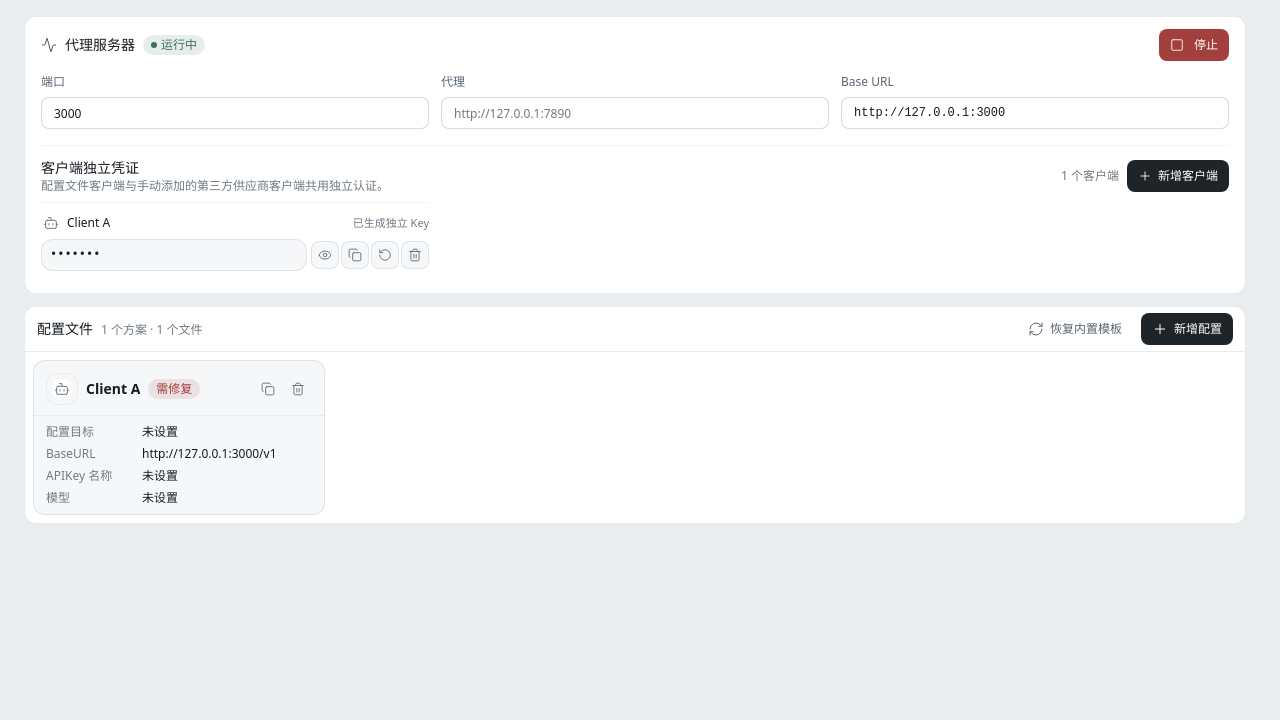
route workbench redesign › previews and commits one profile key rotation before reloading credentials
Click the button named "显示 Client A API Key": (325, 255) [311,241,339,269]
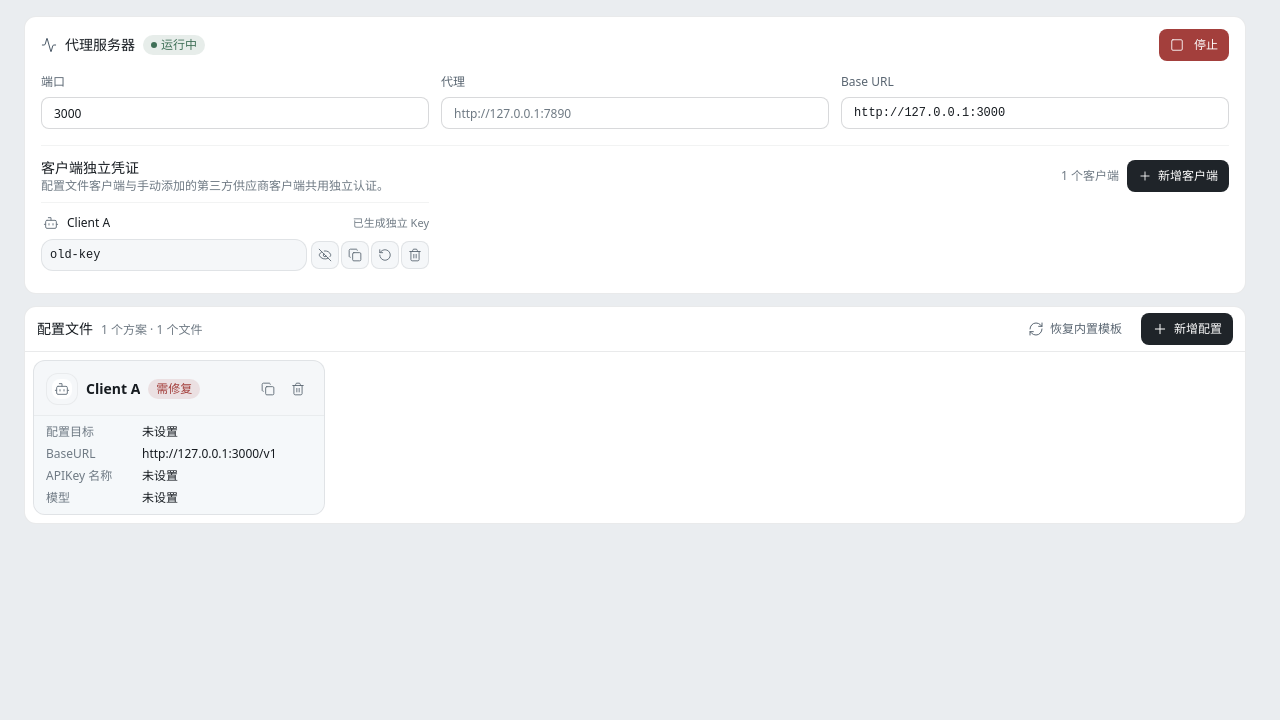
Check: the field showing "old-key" shows its text, box [41,239,307,271]
Click the button named "轮换 Client A API Key": (385, 255) [371,241,399,269]
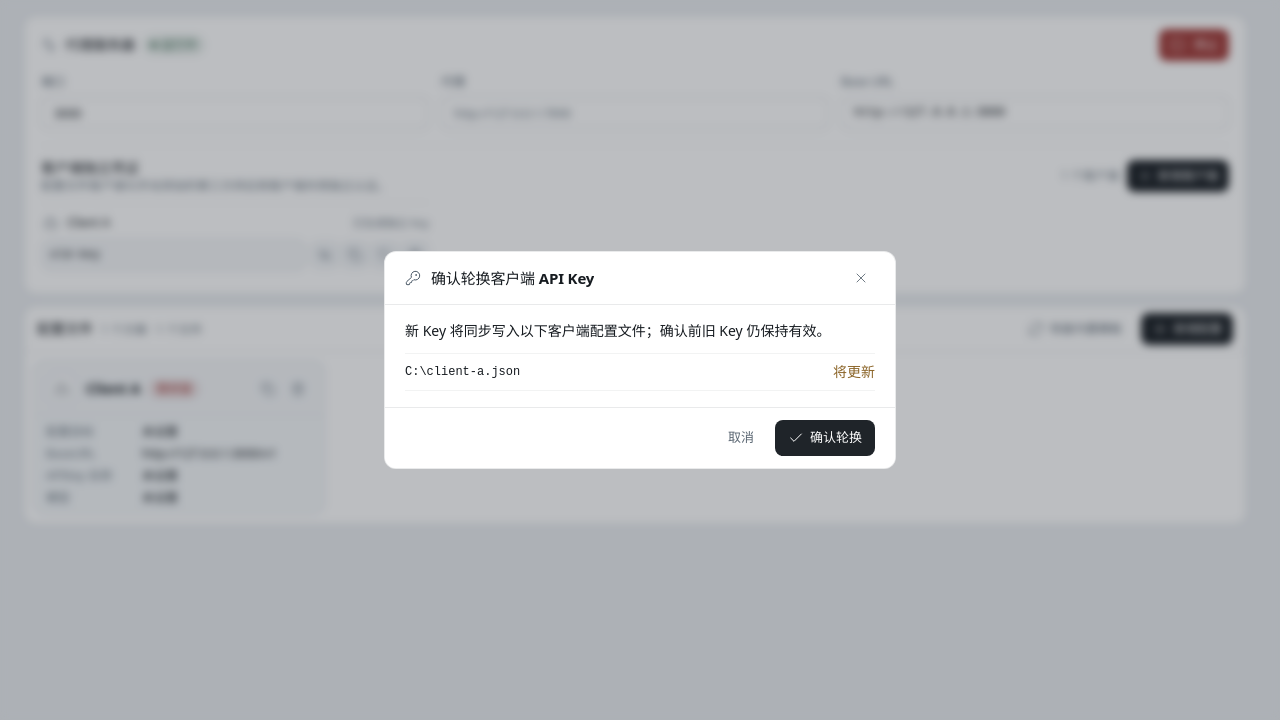
Check: the text "C:\\client-a.json" is shown, box [405,364,520,380]
Click the button "确认轮换": (825, 438) [775,420,875,456]
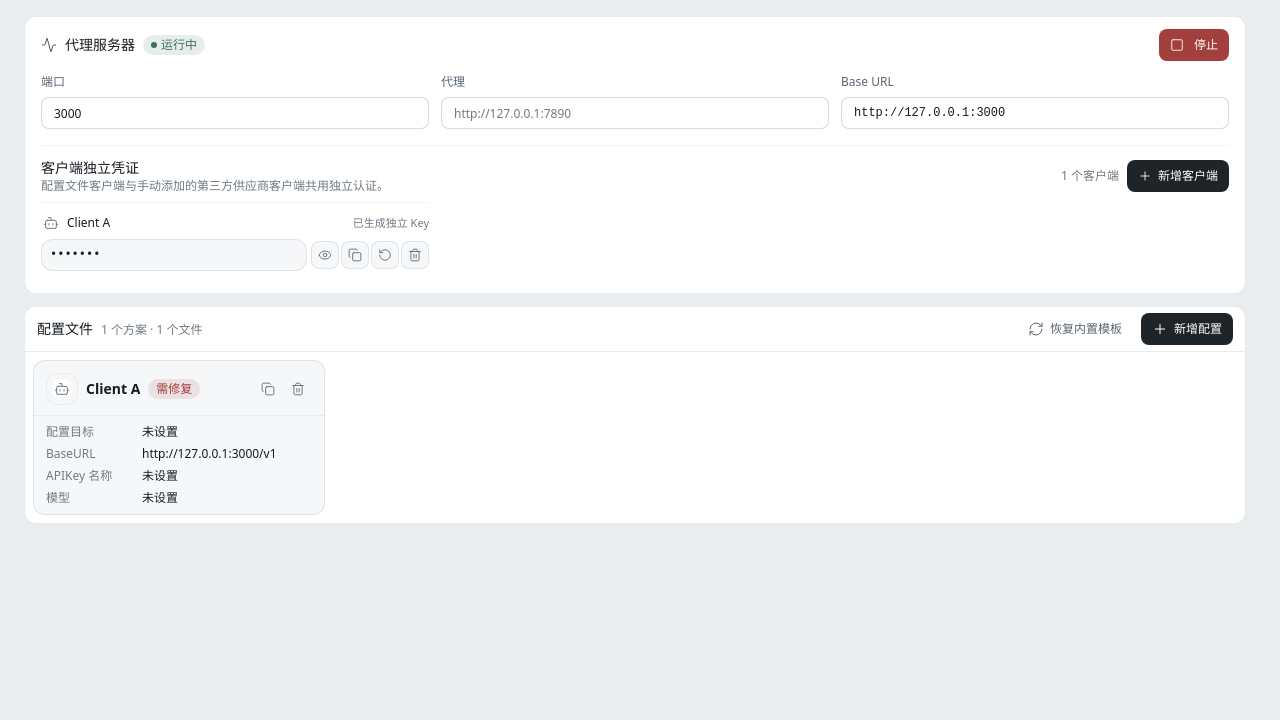
Check: the password field showing "new-key" hides its text, box [41,239,307,271]
